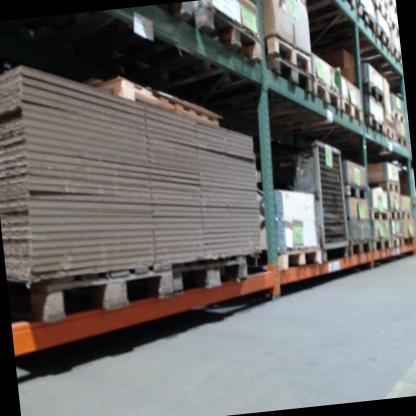pallet: (15, 249, 182, 330), (174, 0, 263, 68), (247, 25, 317, 80), (170, 248, 254, 293), (250, 51, 317, 103), (255, 240, 326, 275), (353, 78, 388, 111), (348, 0, 376, 41), (313, 77, 341, 117), (338, 91, 362, 130), (344, 234, 375, 258), (341, 178, 368, 204), (371, 20, 391, 55), (361, 107, 383, 138), (367, 178, 403, 196), (367, 236, 395, 256), (316, 0, 356, 12), (388, 231, 405, 249), (370, 208, 390, 223), (383, 123, 396, 145), (390, 43, 401, 69), (391, 107, 405, 124), (396, 135, 408, 151), (402, 211, 414, 221), (389, 212, 402, 220)
stillage: (257, 137, 353, 265)
